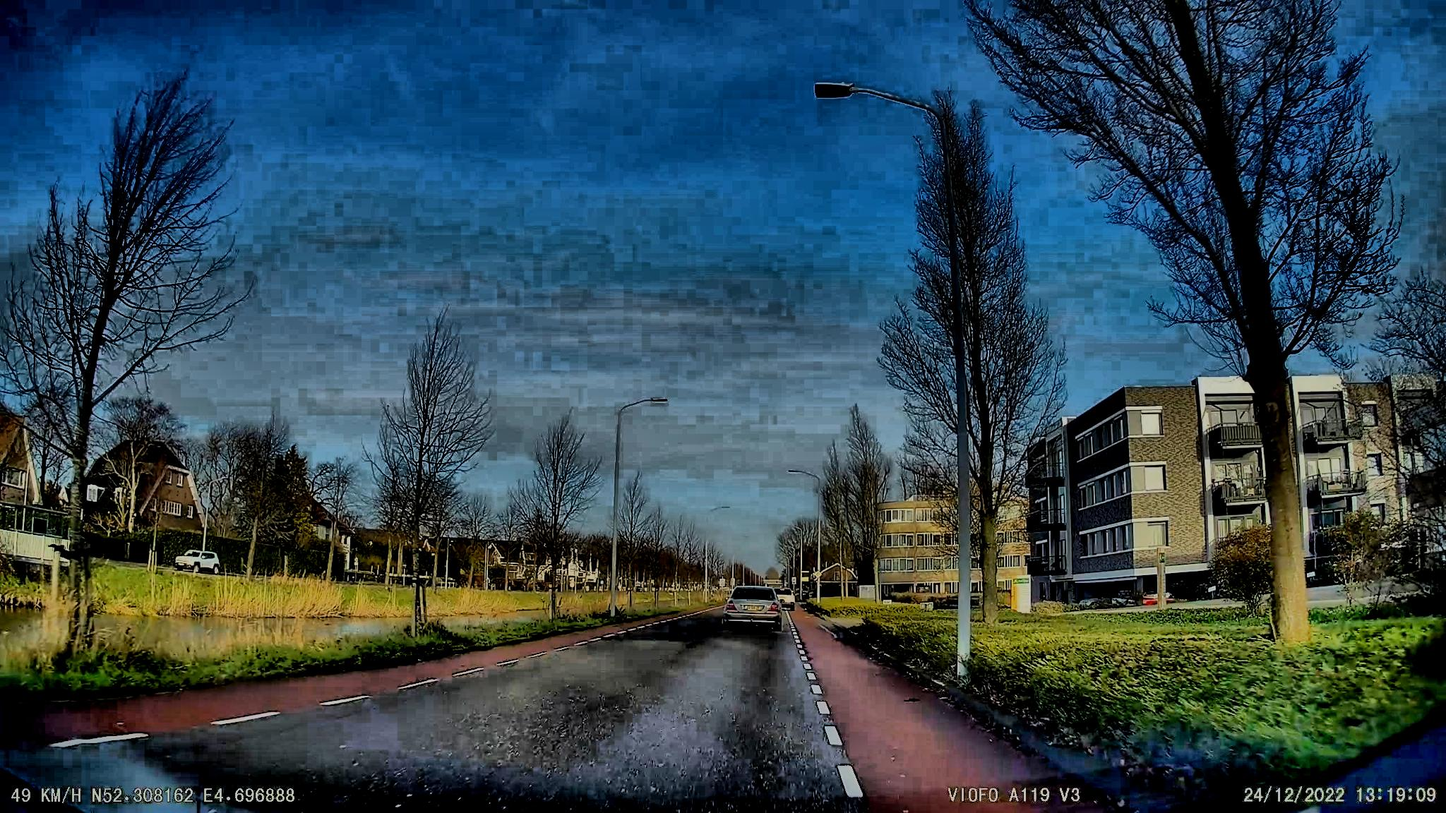Roads: (0, 618, 1126, 813)
